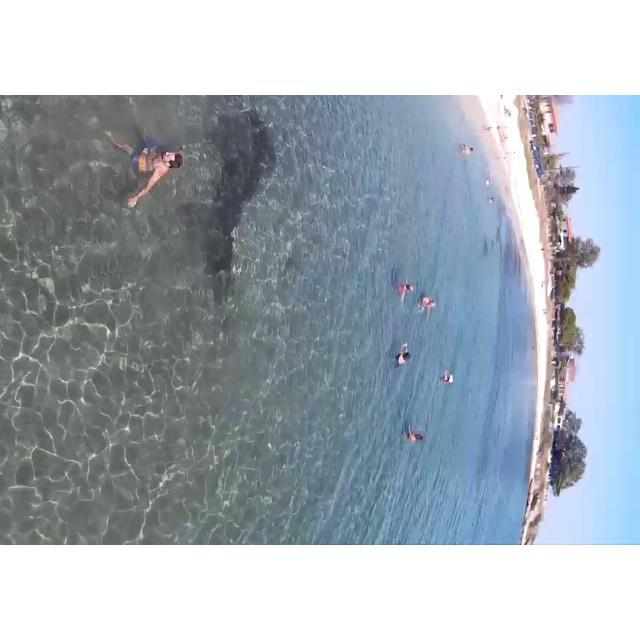human: (109, 110, 190, 225), (389, 334, 418, 376), (402, 417, 435, 453), (419, 290, 443, 327), (393, 271, 413, 310), (441, 369, 456, 387)
